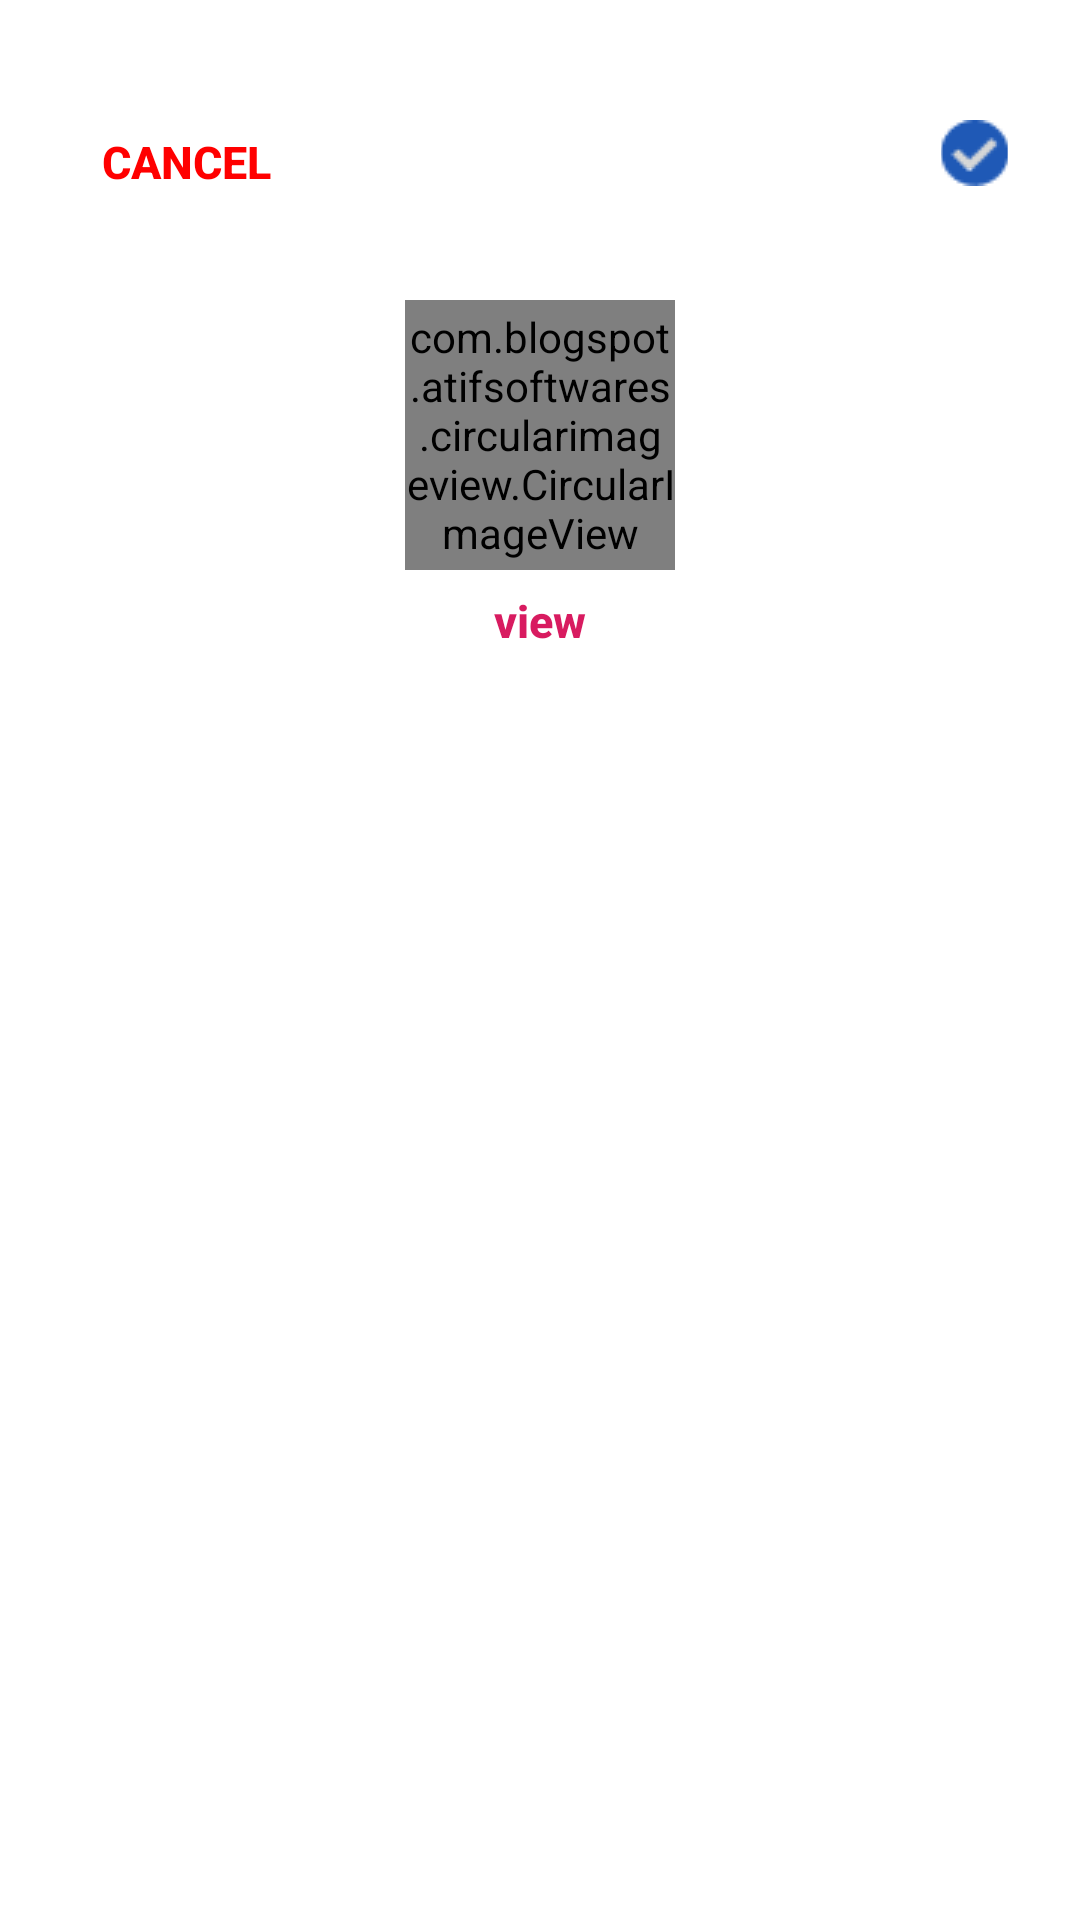

Icon click points for this 1080w x 1920h phone screenshot, format point (x, y):
awesome check circle: point (974, 153)
